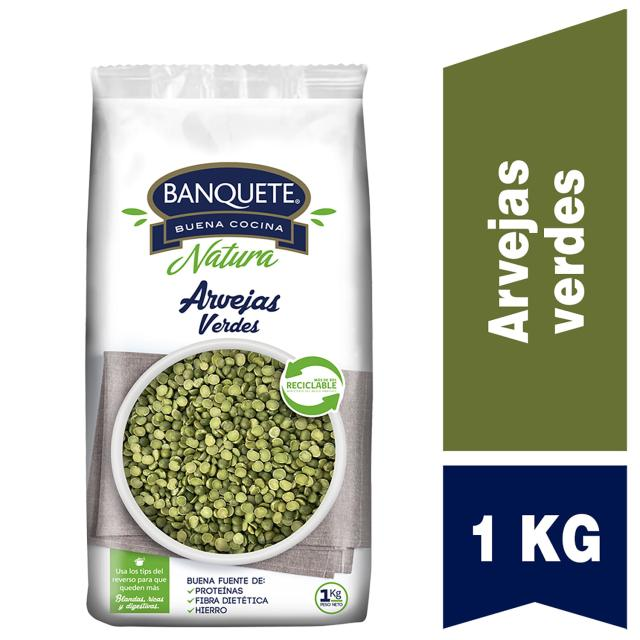arvejas: (142, 378, 287, 536)
